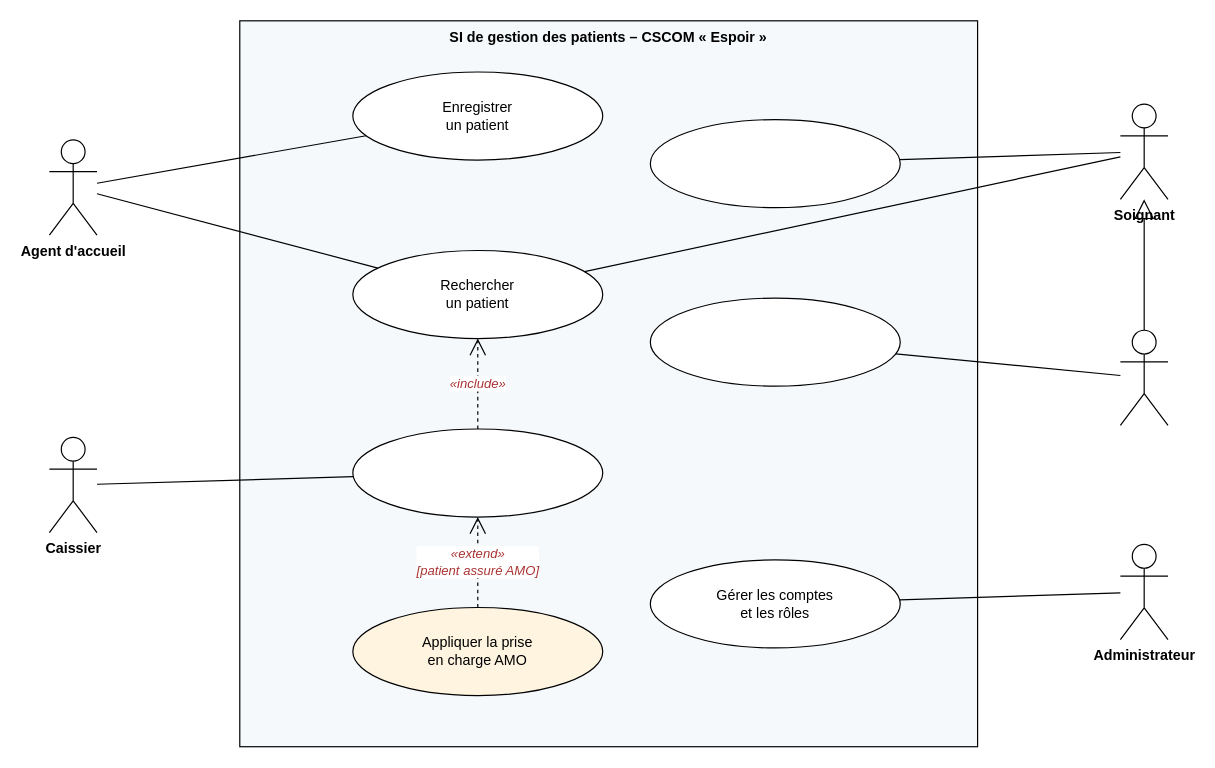
The diagram is 1215 pixels wide and 768 high, and some of its shapes have lost their labels. Here are the shapes that lost their labels. From the top down, the centre of each, then its label:
At (774,163): "Saisir une consultation".
At (774,341): "Consulter l'historique du patient".
At (1143,377): "Médecin".
At (477,472): "Encaisser une consultation".
